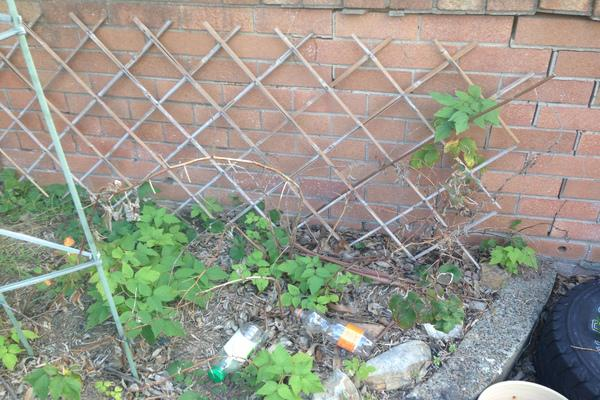Plastic Bottle: (293, 306, 377, 356), (208, 322, 267, 383)
